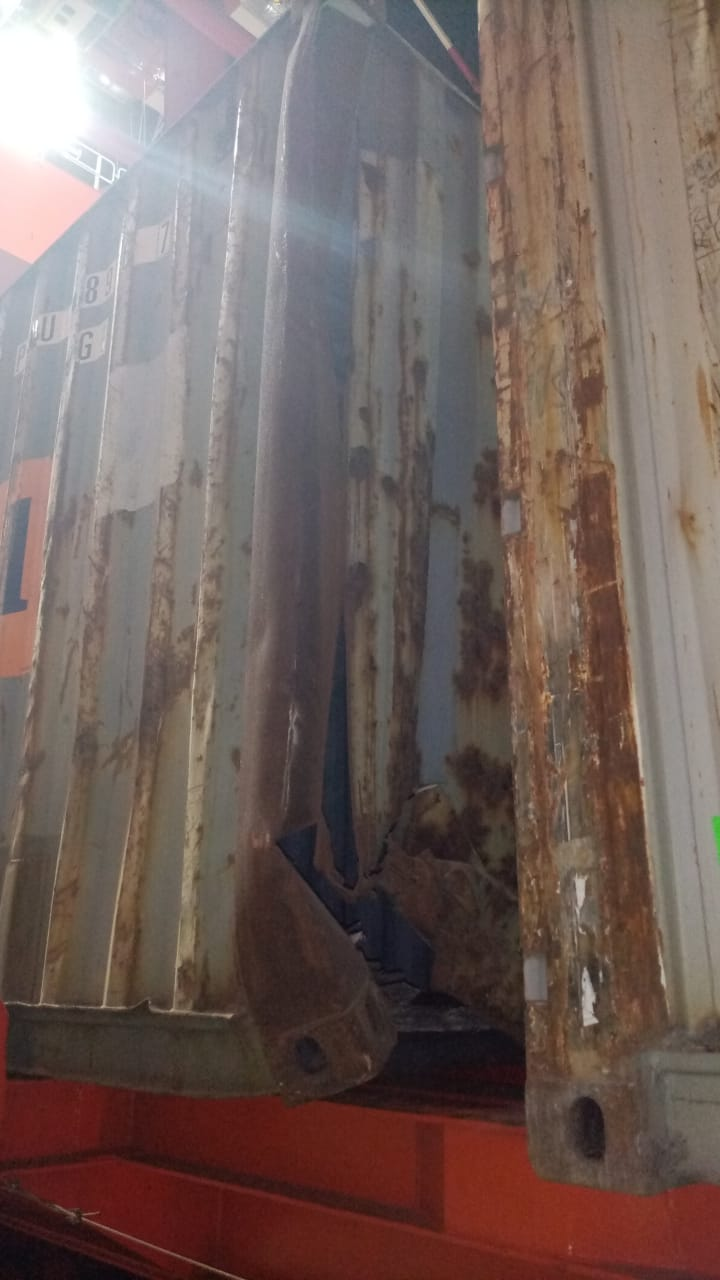severe: (244, 272, 482, 1007)
